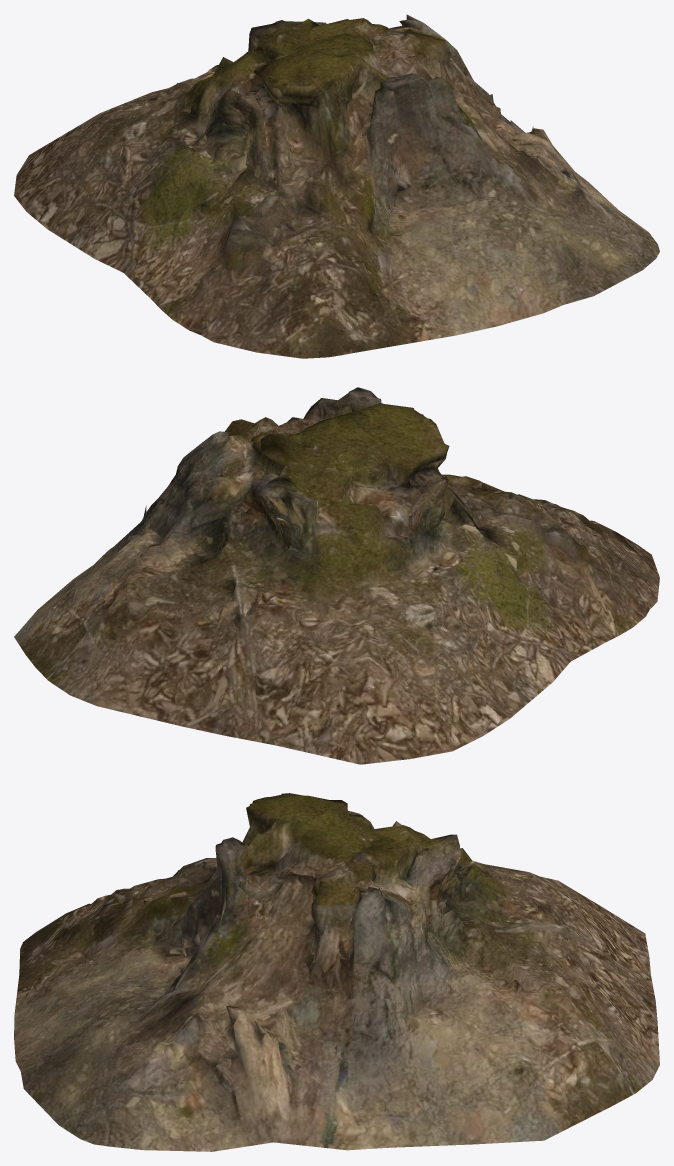
The model's file is tree_stump_01.glb.
3 renders of one model, top to bottom at view 1: azimuth 30°, elevation 25°; view 2: azimuth 150°, elevation 25°; view 3: azimuth 270°, elevation 25°, orthographic. The views are drawn at different scales.
Visible parts, largest first — view 1: tree_stump_01, tree_stump_01_lo; view 2: tree_stump_01, tree_stump_01_lo; view 3: tree_stump_01, tree_stump_01_lo.
Part boxes in pixels (left/top/right/bottom): tree_stump_01: left=14, top=14, right=659, bottom=358; tree_stump_01_lo: left=15, top=20, right=658, bottom=358; tree_stump_01: left=14, top=387, right=659, bottom=764; tree_stump_01_lo: left=14, top=397, right=659, bottom=763; tree_stump_01: left=14, top=793, right=659, bottom=1151; tree_stump_01_lo: left=14, top=793, right=659, bottom=1151.
Size of the model in its own units: 1.43 by 0.571 by 1.59.
Materials: 1 (1 with a texture image).
